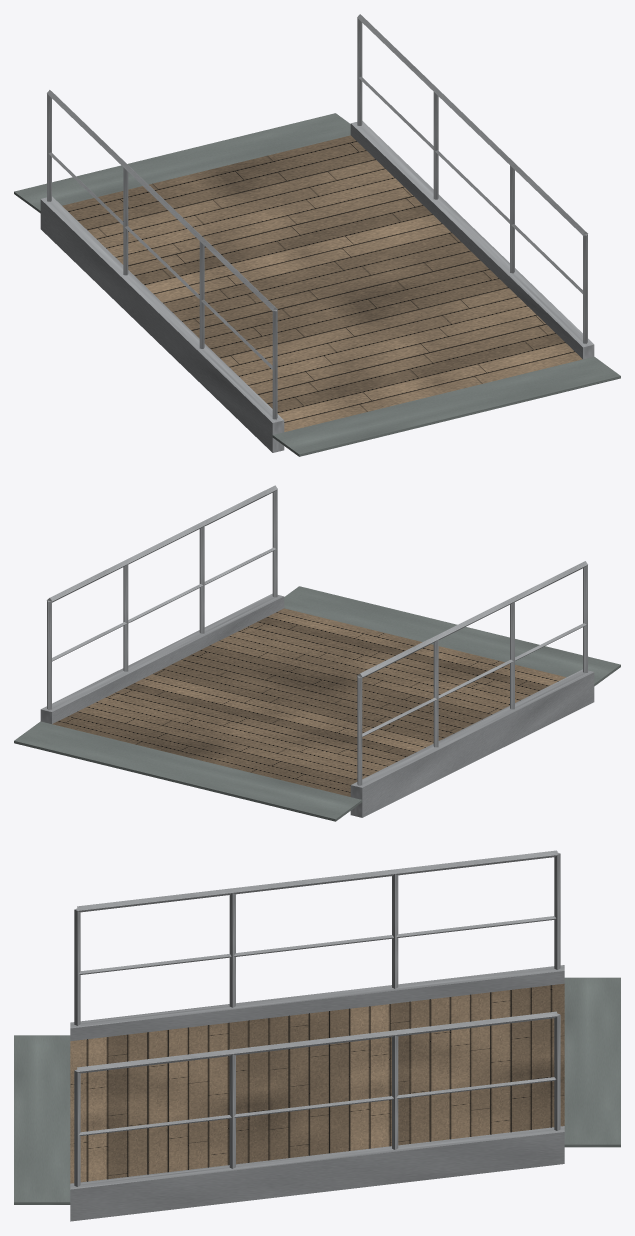
Rendered from SM_Morin_Marina_Passerella_LOD1.fbx.
3 views of the same model, one above another, from view 1: azimuth 30°, elevation 25°; view 2: azimuth 150°, elevation 25°; view 3: azimuth 270°, elevation 25° (orthographic). The views are drawn at different scales.
Parts seen in each view (by area): view 1: SM_Morin_Marina_Passerella_LOD1; view 2: SM_Morin_Marina_Passerella_LOD1; view 3: SM_Morin_Marina_Passerella_LOD1.
Part boxes in pixels (box(x1,y1,x2,y2)): SM_Morin_Marina_Passerella_LOD1: box(14, 14, 620, 456); SM_Morin_Marina_Passerella_LOD1: box(14, 485, 620, 821); SM_Morin_Marina_Passerella_LOD1: box(14, 850, 620, 1221).
Size of the model in its own units: 280 by 430 by 162.
Materials: 2 (2 with a texture image).
